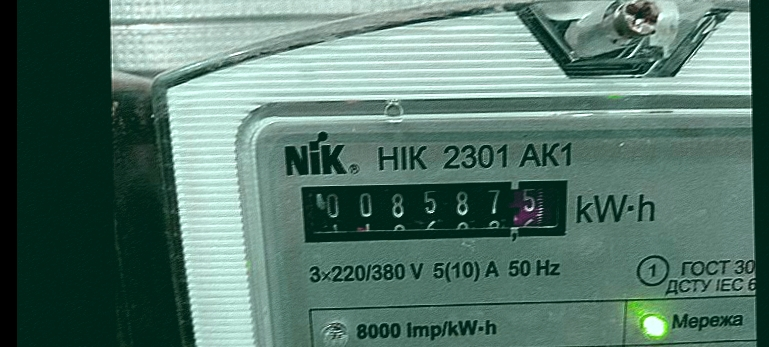0: (323, 187, 340, 216), (357, 187, 374, 215)
5: (520, 183, 538, 212), (420, 185, 438, 213)
7: (484, 182, 502, 213)
8: (452, 184, 470, 214), (389, 187, 405, 216)
screen: (282, 162, 586, 251)
